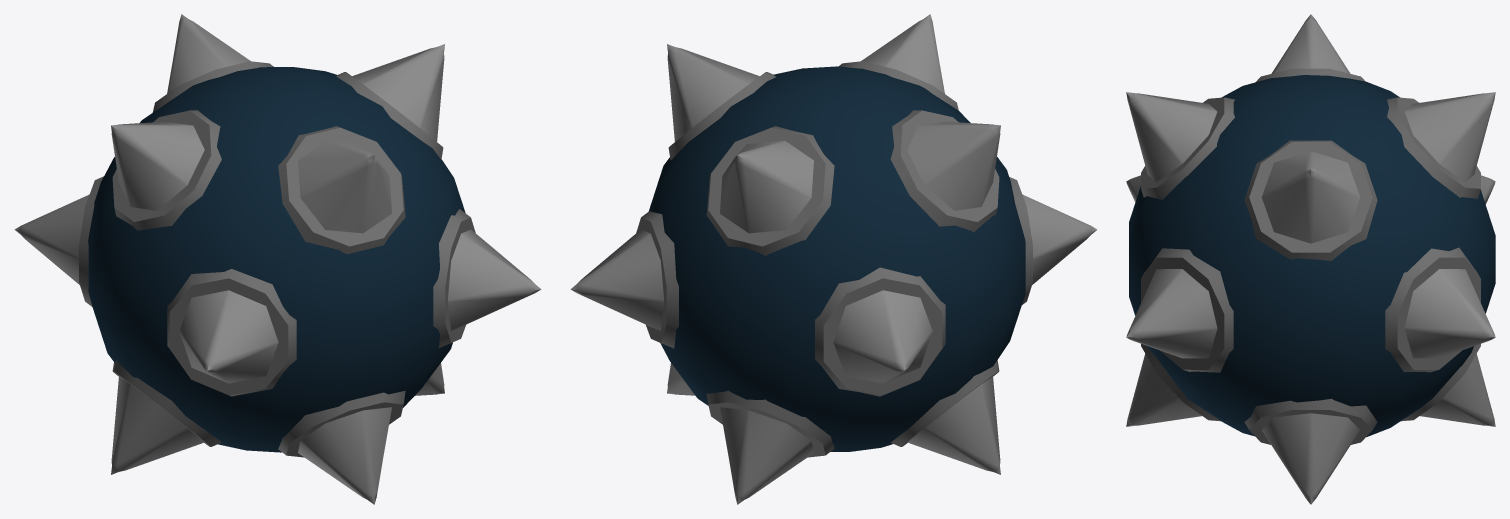
The model's file is Spiky Ball.glb.
The picture shows the model from 3 angles, left to right: view 1: azimuth 30°, elevation 25°; view 2: azimuth 150°, elevation 25°; view 3: azimuth 270°, elevation 25°; orthographic projection. The views are drawn at different scales.
Visible parts, largest first — view 1: SpikyBall; view 2: SpikyBall; view 3: SpikyBall.
Part boxes in pixels (left/top/right/bottom): SpikyBall: left=14, top=14, right=541, bottom=504; SpikyBall: left=570, top=14, right=1097, bottom=504; SpikyBall: left=1126, top=14, right=1495, bottom=504.
Bounding box in the file's own units: 1.18 × 1.19 × 1.18.
